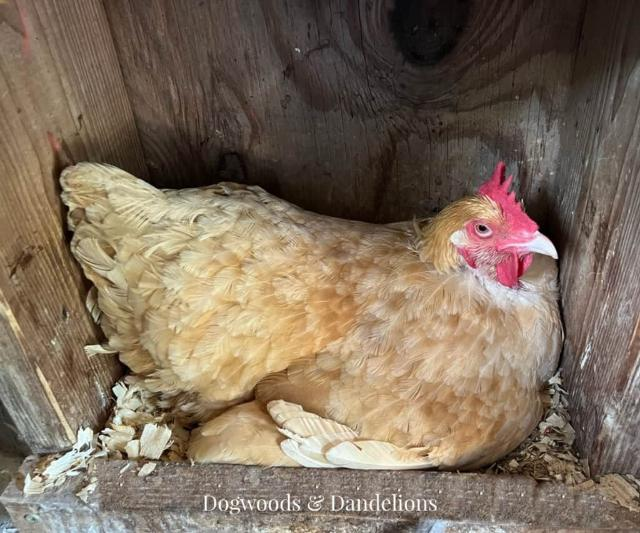Chicken: (59, 157, 566, 469)
